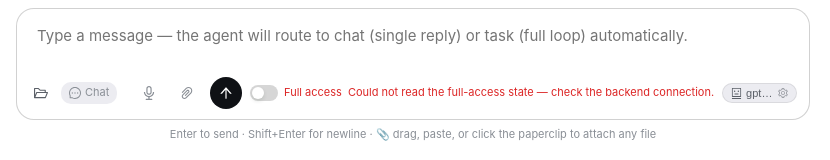
Test: composer dictation › dictates into the message box once a recogniser exists
Click the button with test id "composer-mic". click: {"x": 148, "y": 93}
box: [133, 77, 164, 109]
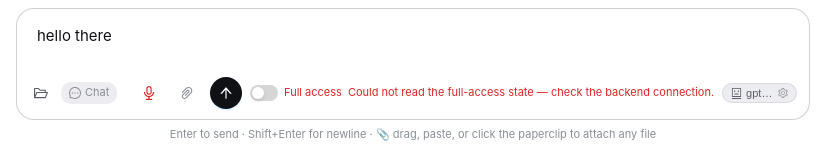
Result: the text box holds "hello there" at [29, 19, 813, 67]
